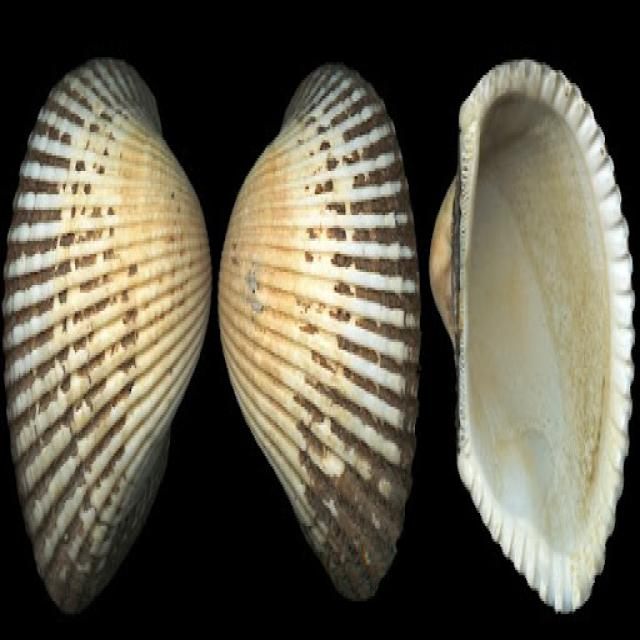Anadara_kagoshimensis: (8, 61, 211, 618), (431, 59, 634, 612), (220, 67, 420, 606)
